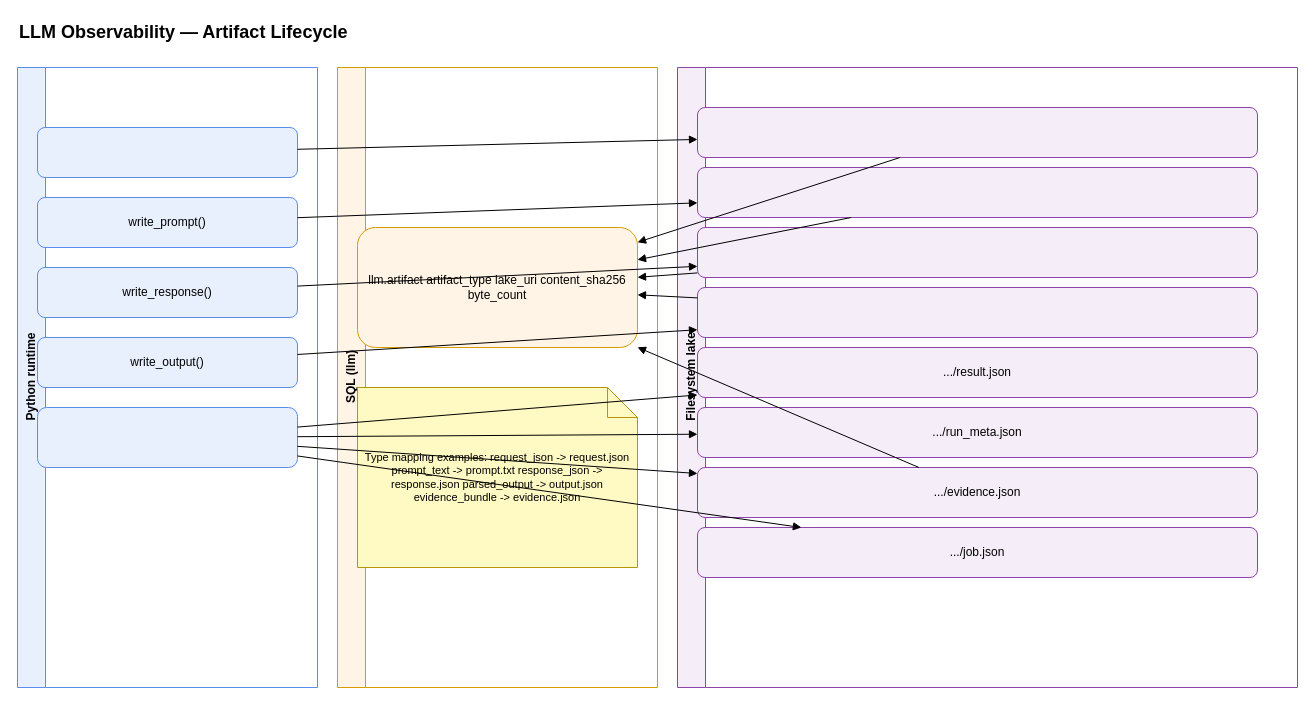
This 1315x705 diagram has some shape labels left out. The shapes that lost their labels are listed below. From the top down, each one's centre as x and y in pixels, then its label:
At point 167,152: "write_request()".
At point 977,132: "{LAKE_ROOT}/{YYYY}/{MM}/{DD}/{run_id}/request.json".
At point 977,192: ".../prompt.txt".
At point 977,252: ".../response.json".
At point 977,312: ".../output.json".
At point 167,437: "write_result()/run_meta/evidence/job".
